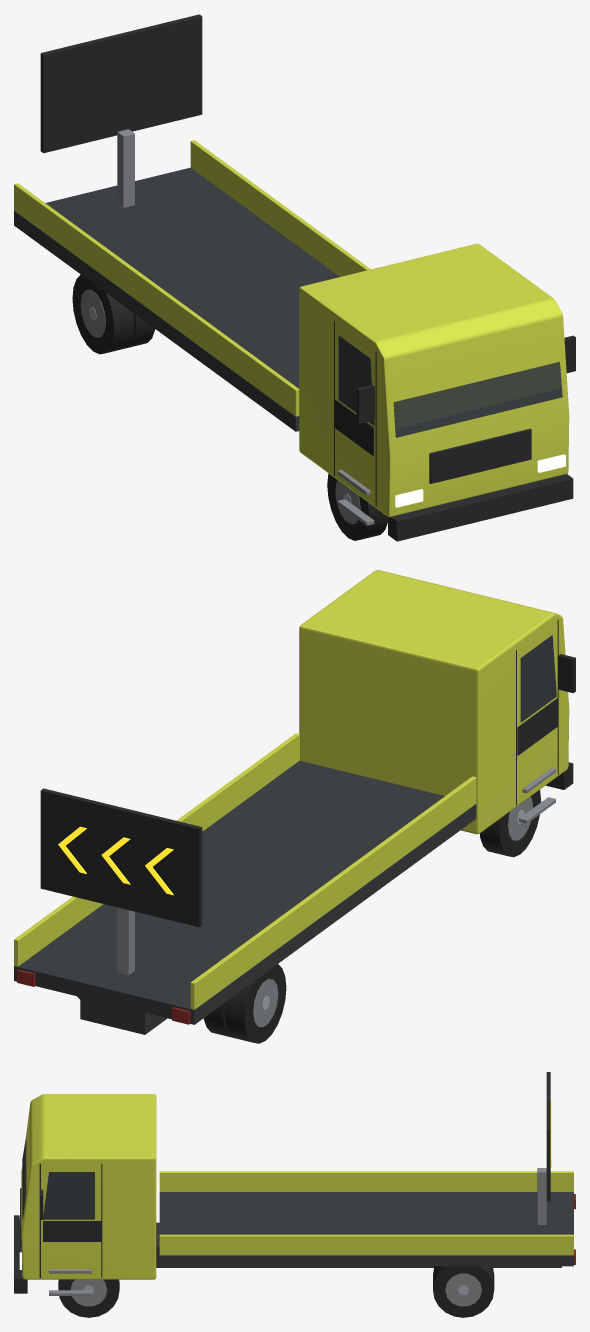
File: veh_lorry_tm.glb
The picture shows the model from 3 angles, top to bottom: view 1: azimuth 30°, elevation 25°; view 2: azimuth 150°, elevation 25°; view 3: azimuth 270°, elevation 25°; orthographic projection. The views are drawn at different scales.
Visible parts, largest first — view 1: Body, Wheels, CabDoorLMesh; view 2: Body, Wheels, CabDoorLMesh; view 3: Body, Wheels, CabDoorRMesh.
Part boxes in pixels (x1,y1,x2,y2): Body: (14,14,575,541); Wheels: (72,274,387,540); CabDoorLMesh: (334,399,373,455); Body: (14,570,575,1034); Wheels: (77,790,541,1043); CabDoorLMesh: (517,698,557,755); Body: (14,1072,575,1295); Wheels: (58,1266,494,1317); CabDoorRMesh: (43,1221,101,1241).
Size of the model in its own units: 3 by 3.35 by 9.15.
